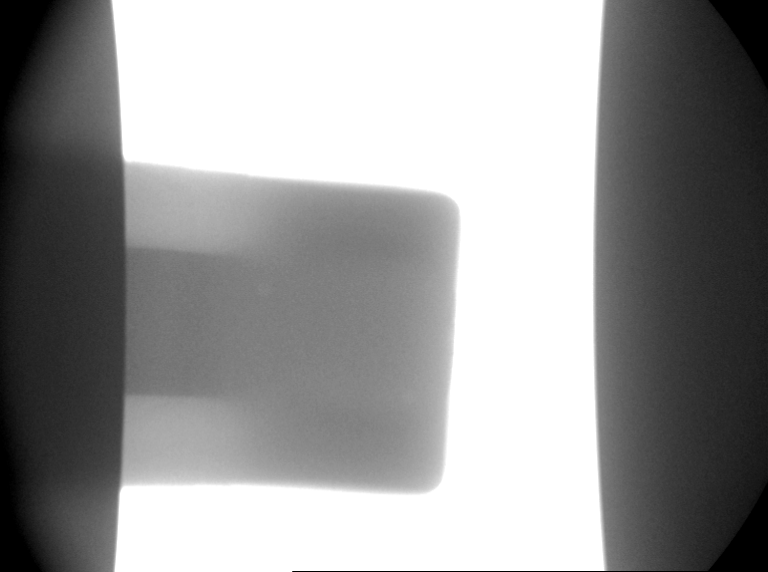defect: (396, 384, 428, 408)
